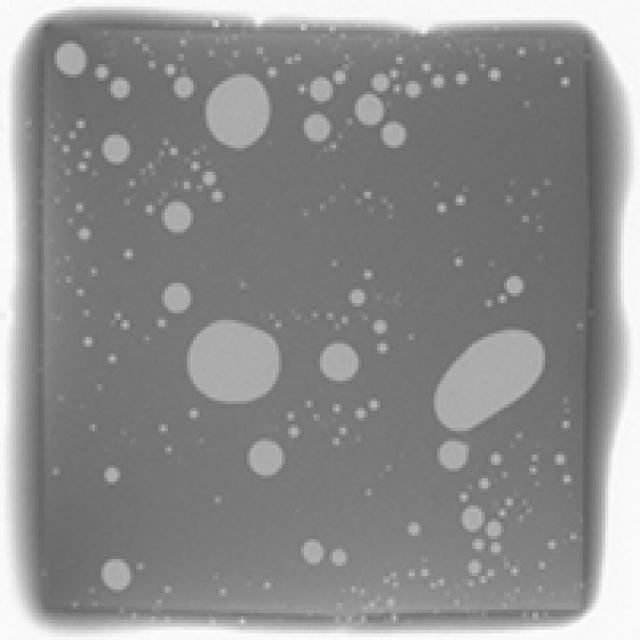component: (19, 13, 621, 618)
void: (437, 333, 548, 433), (187, 320, 282, 404), (206, 74, 272, 150), (250, 441, 285, 477), (54, 40, 89, 76), (323, 347, 358, 382), (101, 559, 133, 591), (355, 94, 387, 126), (440, 441, 472, 473), (162, 283, 193, 315), (162, 202, 193, 234), (101, 135, 130, 163), (304, 115, 333, 143), (463, 505, 488, 534), (310, 77, 336, 103), (301, 542, 326, 568), (383, 121, 406, 148), (174, 77, 196, 99), (111, 77, 130, 99), (507, 276, 526, 298), (374, 74, 393, 93), (333, 549, 352, 568), (406, 81, 425, 99), (349, 290, 368, 308), (488, 522, 504, 541), (105, 468, 120, 487), (456, 71, 472, 86), (374, 320, 387, 335), (469, 563, 482, 578), (95, 64, 108, 79), (203, 172, 215, 187), (409, 522, 421, 537), (434, 74, 444, 89), (355, 408, 368, 419), (377, 344, 390, 355), (81, 229, 92, 241)
